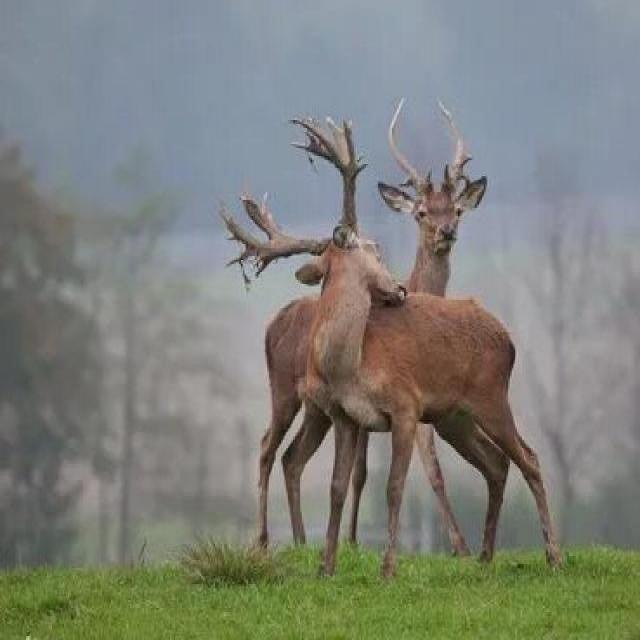deer: (228, 145, 562, 588)
